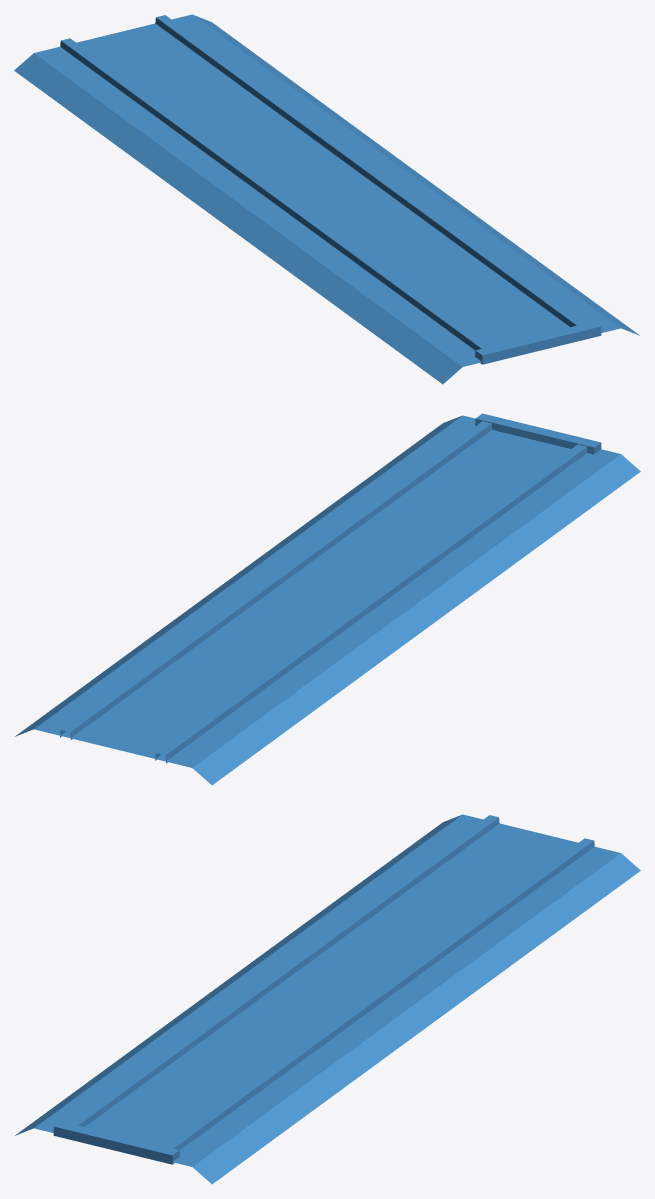
The model's file is TramRails_Mid.fbx.
3 views of the same model, one above another, from view 1: azimuth 30°, elevation 25°; view 2: azimuth 150°, elevation 25°; view 3: azimuth 330°, elevation 25° (orthographic).
Parts seen in each view (by area): view 1: TramRails_Mid; view 2: TramRails_Mid; view 3: TramRails_Mid.
Boxes of the visible parts, x1,y1,x2,y2 form: TramRails_Mid: [14, 14, 639, 384]; TramRails_Mid: [15, 413, 640, 785]; TramRails_Mid: [15, 814, 640, 1184].
Bounding box in the file's own units: 240 × 22.5 × 900.
